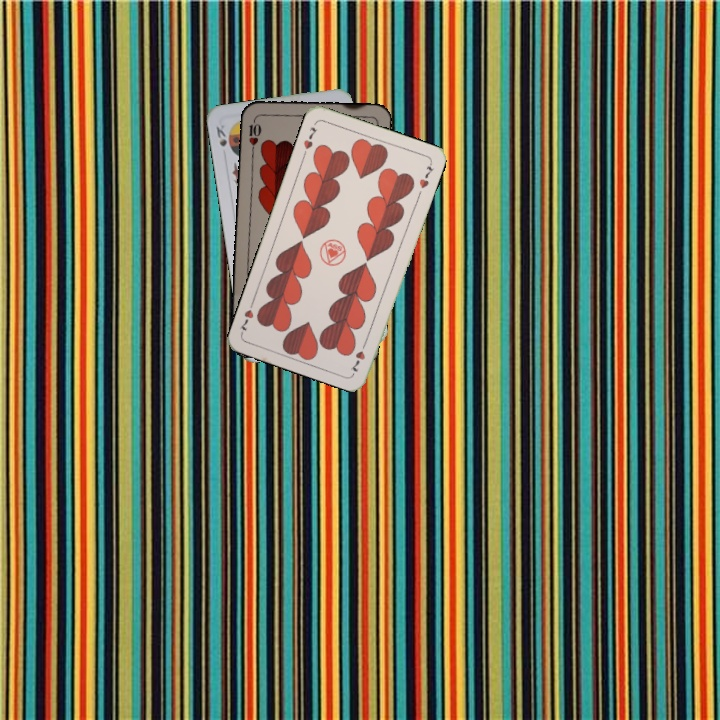H10: (245, 113, 263, 154)
H7: (347, 337, 370, 374), (299, 123, 320, 159)
SK: (212, 121, 234, 155)
